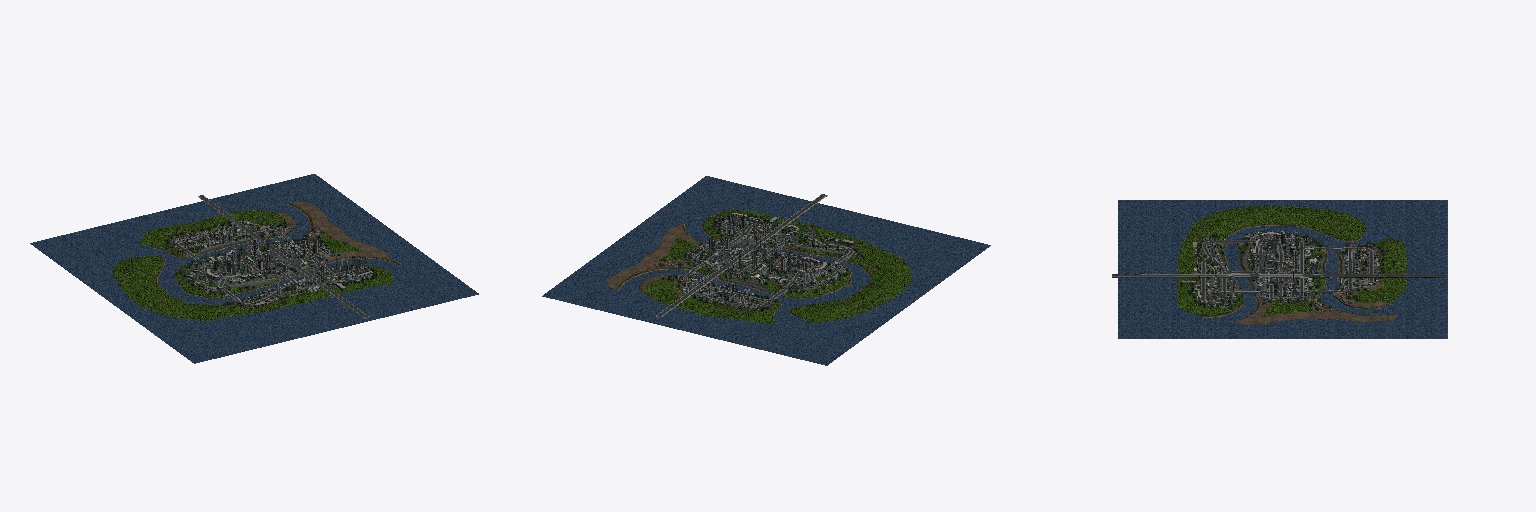
3 views of the same model, side by side, from view 1: azimuth 30°, elevation 25°; view 2: azimuth 150°, elevation 25°; view 3: azimuth 270°, elevation 25° (orthographic).
Visible parts, largest first — view 1: mesh_6, mesh_2, mesh_0, mesh_7, mesh_13, mesh_4, mesh_5, mesh_1, mesh_9, mesh_3; view 2: mesh_6, mesh_2, mesh_0, mesh_7, mesh_13, mesh_4, mesh_5, mesh_1, mesh_9, mesh_3; view 3: mesh_6, mesh_2, mesh_0, mesh_7, mesh_13, mesh_4, mesh_5, mesh_1, mesh_9.
Part boxes in pixels (x1,y1,x2,y2): mesh_6: (30, 174, 478, 363); mesh_2: (113, 210, 393, 320); mesh_0: (154, 203, 399, 304); mesh_7: (200, 218, 371, 294); mesh_13: (165, 221, 377, 306); mesh_4: (239, 202, 390, 262); mesh_5: (198, 195, 368, 318); mesh_1: (168, 222, 356, 302); mesh_9: (169, 225, 354, 291); mesh_3: (181, 223, 372, 306); mesh_6: (542, 176, 990, 365); mesh_2: (643, 210, 911, 323); mesh_0: (616, 217, 871, 317); mesh_7: (691, 213, 827, 294); mesh_13: (659, 214, 864, 310); mesh_4: (607, 224, 706, 297); mesh_5: (656, 194, 827, 317); mesh_1: (681, 222, 847, 310); mesh_9: (698, 222, 837, 311); mesh_3: (681, 217, 857, 306); mesh_6: (1118, 200, 1447, 338); mesh_2: (1177, 206, 1406, 317); mesh_0: (1201, 224, 1394, 323); mesh_7: (1196, 232, 1355, 306); mesh_13: (1188, 231, 1384, 310); mesh_4: (1231, 282, 1398, 324); mesh_5: (1112, 263, 1444, 297); mesh_1: (1196, 238, 1379, 306); mesh_9: (1194, 231, 1388, 297).
Size of the model in its own units: 0.9833 by 0.1154 by 1.
Materials: 14 (14 with a texture image).